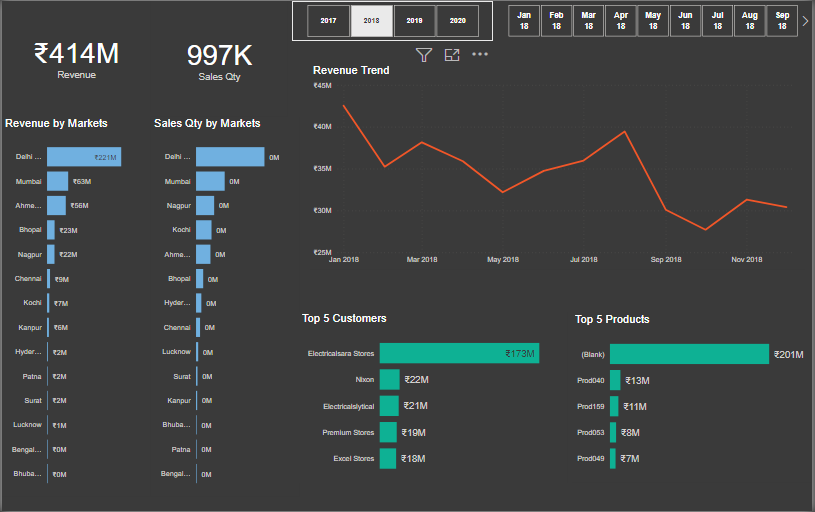

The page's visual inventory and layout, read from the dashboard file:
{"tool":"powerbi","page":{"name":"Key Insights","canvas":[1350,850],"ordinal":0},"visuals":[{"type":"card","fields":{"Values":["BaseMeasures (2).Revenue"]},"box":[0,0,247.9,184.6],"z":0},{"type":"card","fields":{"Values":["BaseMeasures (2).Sales Qty"]},"box":[247.9,0,227.9,193.1],"z":1000},{"type":"barChart","title":"Revenue by Markets","fields":{"Y":["BaseMeasures (2).Revenue"],"Category":["sales markets.markets_name"]},"box":[0,193.1,247.9,631.9],"z":2000},{"type":"barChart","title":"Sales Qty by Markets","fields":{"Y":["BaseMeasures (2).Sales Qty"],"Category":["sales markets.markets_name"]},"box":[247.9,193.1,247.9,631.9],"z":3000},{"type":"slicer","fields":{"Values":["sales date.year"]},"box":[483.3,0,335,66.7],"z":4000},{"type":"slicer","fields":{"Values":["sales date.cy_date"]},"box":[818.6,0,531.7,66.5],"z":5000},{"type":"barChart","title":"Top 5 Customers","fields":{"Y":["BaseMeasures (2).Revenue"],"Category":["sales customers.custmer_name"]},"box":[495,518.3,446.7,285],"z":6000},{"type":"barChart","title":"Top 5 Products","fields":{"Y":["BaseMeasures (2).Revenue"],"Category":["sales products.product_code"]},"box":[950.7,519.2,399.5,282.8],"z":7000},{"type":"lineChart","title":"Revenue Trend","fields":{"Y":["BaseMeasures (2).Revenue"],"Category":["sales date.cy_date"]},"box":[513.3,105,825,341.7],"z":8000}]}

Visuals, with their boxes in screenshot pixels (x1, y1, x2, y2), scaled from the page's 1350x850 canvas onto the 815x512 screenshot:
card - BaseMeasures (2).Revenue: [x1=0, y1=0, x2=150, y2=111]
card - BaseMeasures (2).Sales Qty: [x1=150, y1=0, x2=287, y2=116]
"Revenue by Markets" barChart: [x1=0, y1=116, x2=150, y2=497]
"Sales Qty by Markets" barChart: [x1=150, y1=116, x2=299, y2=497]
slicer - sales date.year: [x1=292, y1=0, x2=494, y2=40]
slicer - sales date.cy_date: [x1=494, y1=0, x2=814, y2=40]
"Top 5 Customers" barChart: [x1=299, y1=312, x2=569, y2=484]
"Top 5 Products" barChart: [x1=574, y1=313, x2=814, y2=483]
"Revenue Trend" lineChart: [x1=310, y1=63, x2=808, y2=269]
